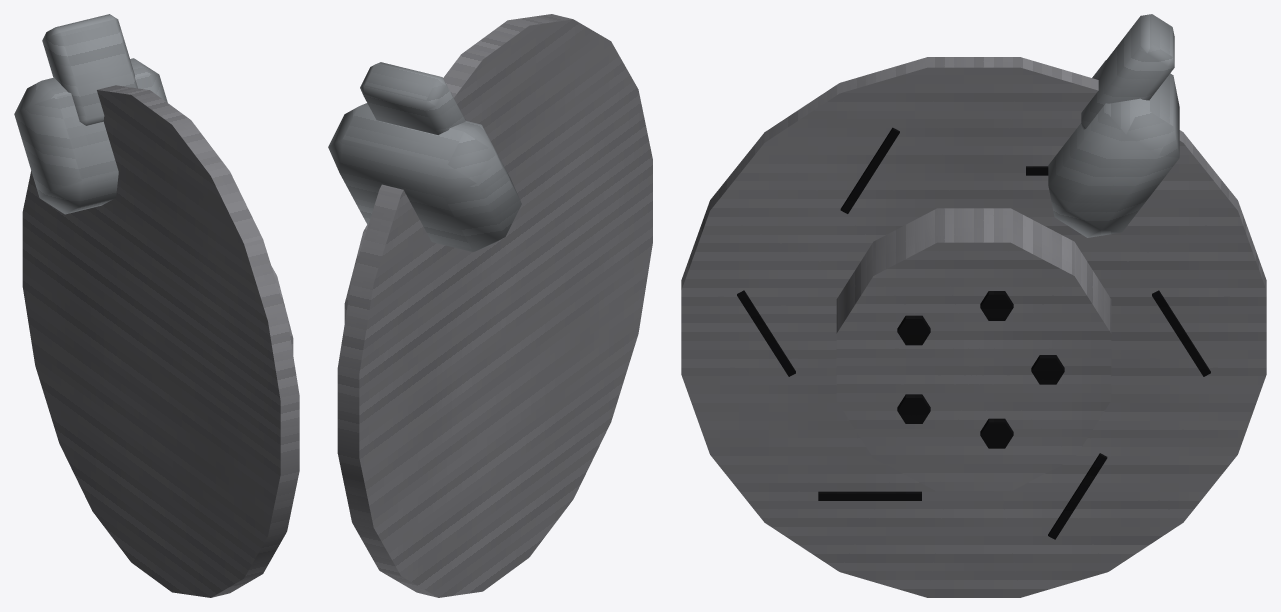
The model's file is discos_n1.glb.
The picture shows the model from 3 angles, left to right: view 1: azimuth 30°, elevation 25°; view 2: azimuth 150°, elevation 25°; view 3: azimuth 270°, elevation 25°; orthographic projection. The views are drawn at different scales.
Parts seen in each view (by area): view 1: discos_n1; view 2: discos_n1; view 3: discos_n1.
Boxes of the visible parts, box(x1,y1,x2,y2) form: discos_n1: box(14, 14, 299, 597); discos_n1: box(328, 14, 652, 597); discos_n1: box(681, 14, 1266, 597).
Bounding box in the file's own units: 0.091 × 0.2981 × 0.2805.
Materials: 1 (1 with a texture image).
